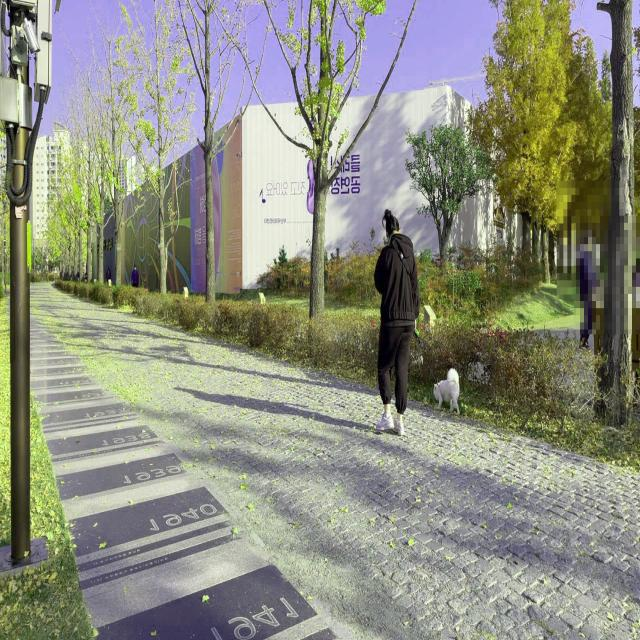Leashed_Dog: (403, 317, 461, 417)
